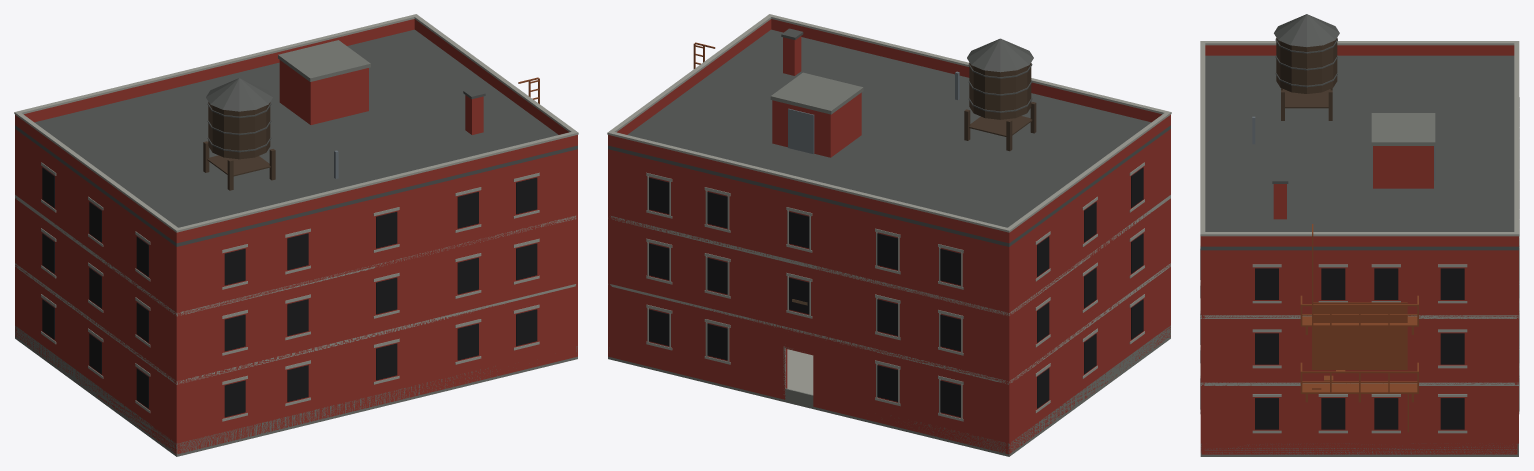
File: apartment.glb
3 views of the same model, side by side, from view 1: azimuth 30°, elevation 25°; view 2: azimuth 150°, elevation 25°; view 3: azimuth 270°, elevation 25° (orthographic).
Parts seen in each view (by area): view 1: apartment; view 2: apartment; view 3: apartment.
Part boxes in pixels (x1,y1,x2,y2): apartment: (14, 14, 578, 456); apartment: (607, 14, 1171, 456); apartment: (1200, 14, 1519, 456).
Size of what is drawn, in the model's own units: 18.02 by 12.75 by 12.05.
2 materials, 2 textured.
